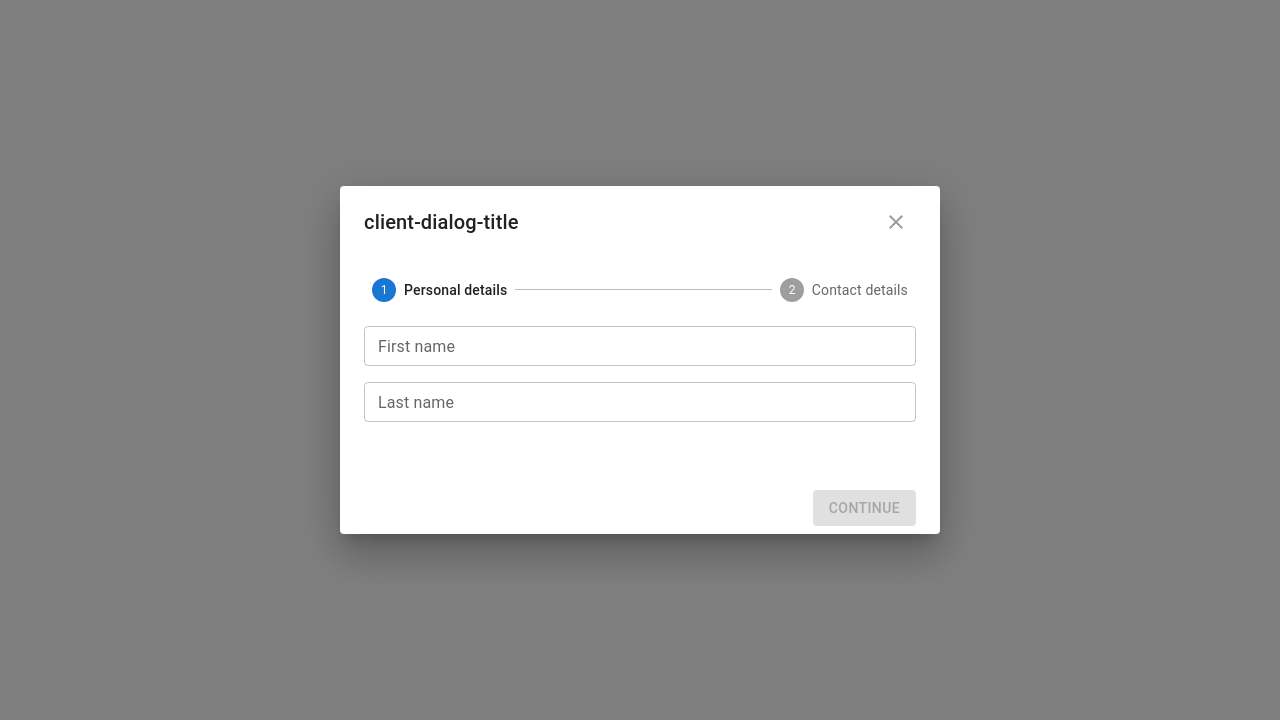
Test: Create Client Dialog › should allow continue if personal details filled
The image size is (1280, 720).
expect the button with test id "btn-continue" is disabled: met, box top-left (813, 490), bottom-right (916, 526)
Type "John" into the field with test id "input-firstName" at x=640, y=346, box top-left (364, 326), bottom-right (916, 366)
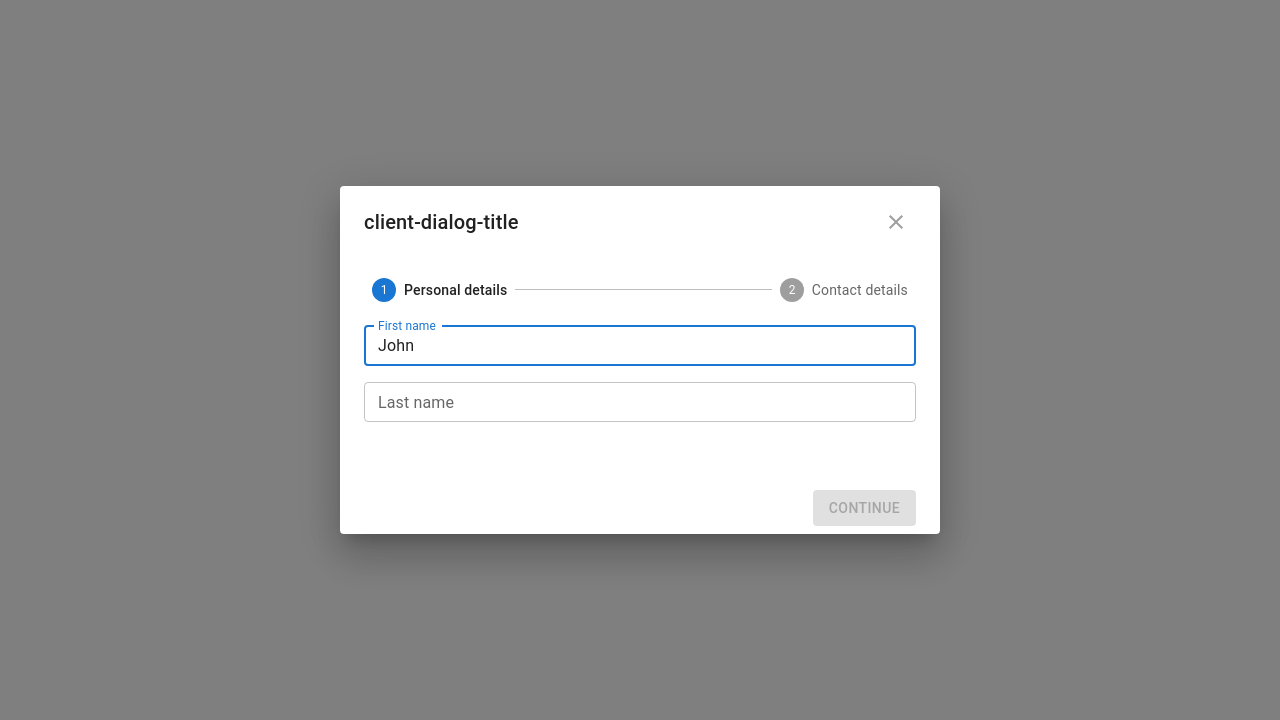
Type "Smith" into the field with test id "input-lastName" at x=640, y=402, box top-left (364, 382), bottom-right (916, 422)
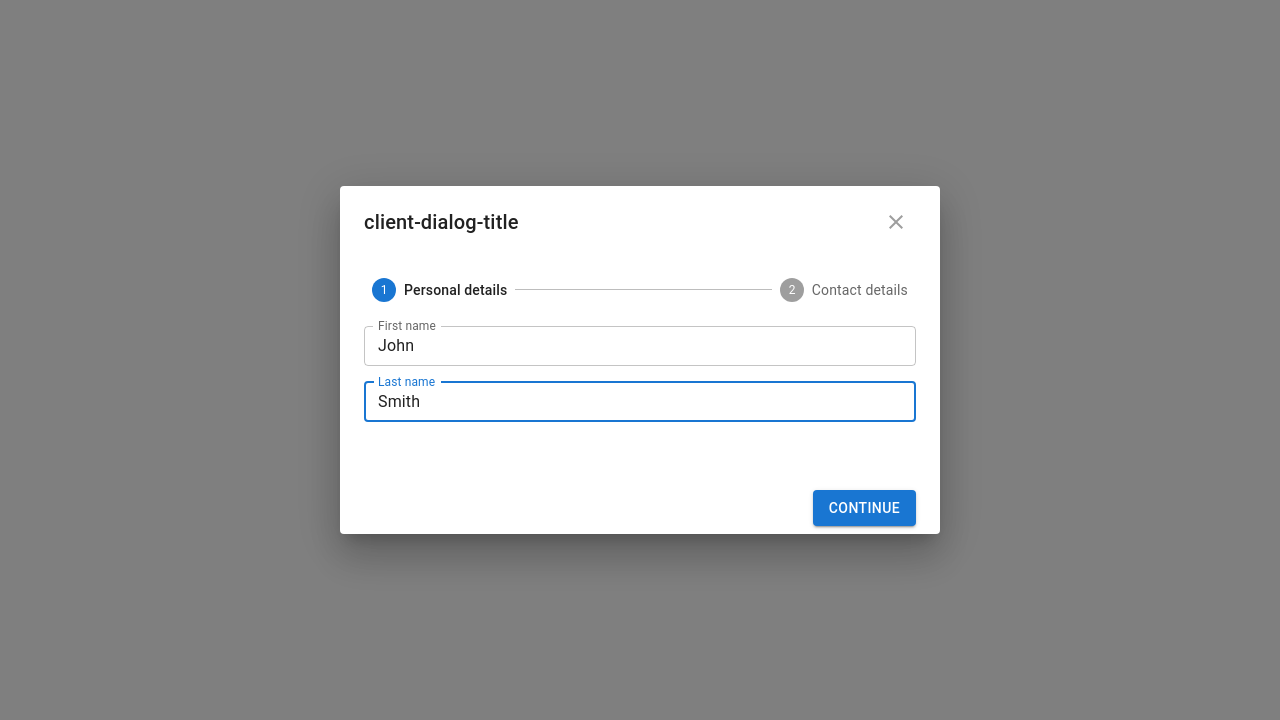
expect the button with test id "btn-continue" is enabled: met
Click the button with test id "btn-continue" at x=864, y=508, box top-left (813, 490), bottom-right (916, 526)
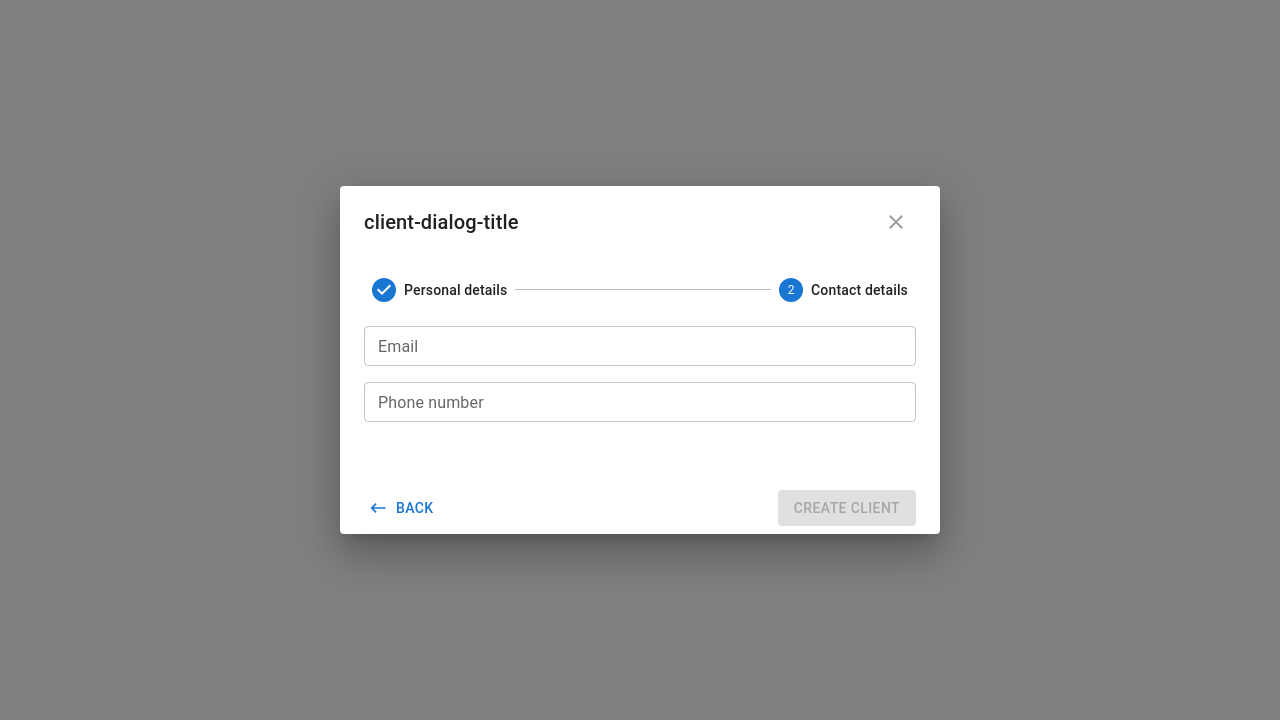
expect the element with test id "field-phoneNumber" is shown: met, box top-left (364, 382), bottom-right (916, 422)
expect the element with test id "field-email" is shown: met, box top-left (364, 326), bottom-right (916, 366)
